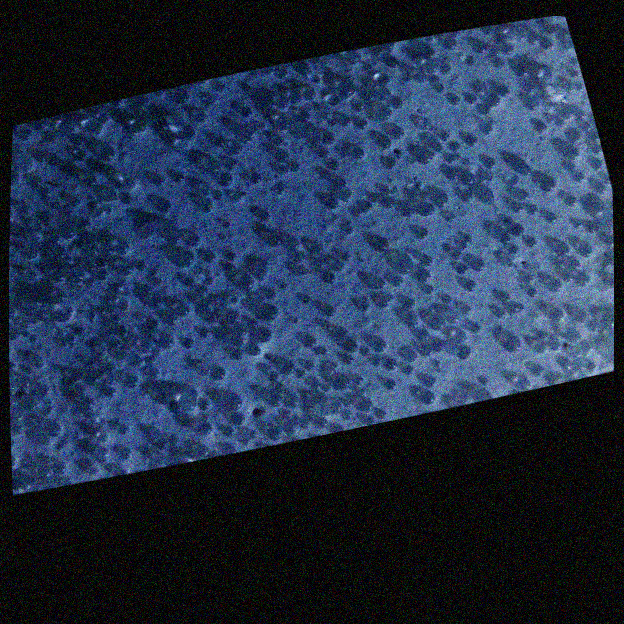GrassBeadSeg: (13, 38, 553, 431), (12, 84, 511, 466), (12, 59, 428, 453), (10, 42, 506, 366), (26, 130, 573, 411), (17, 96, 540, 387), (40, 163, 525, 476), (10, 39, 544, 317), (9, 129, 581, 371), (47, 197, 569, 435), (104, 120, 540, 396), (82, 157, 556, 397), (9, 103, 489, 340), (203, 66, 481, 455), (52, 87, 330, 472), (12, 134, 348, 446), (9, 146, 499, 352), (40, 185, 530, 388), (203, 104, 490, 444), (41, 145, 444, 387), (120, 190, 474, 458), (20, 128, 384, 364), (10, 209, 543, 368), (199, 195, 577, 410), (154, 96, 426, 390), (85, 92, 501, 284), (60, 160, 301, 473), (27, 156, 561, 290), (43, 185, 439, 365), (81, 148, 434, 347), (56, 117, 564, 254), (39, 121, 258, 436), (131, 125, 404, 377), (181, 88, 386, 417), (103, 258, 482, 435), (80, 160, 332, 409), (344, 48, 553, 348), (208, 80, 495, 294), (225, 144, 570, 321), (333, 81, 535, 383), (26, 126, 205, 456), (315, 220, 597, 425), (204, 212, 556, 370), (91, 234, 512, 365), (296, 37, 458, 375), (36, 253, 413, 396), (71, 196, 298, 431), (269, 272, 590, 438), (121, 234, 613, 338), (34, 248, 461, 367), (10, 220, 230, 444), (66, 310, 581, 405), (123, 195, 574, 301), (276, 94, 458, 345), (17, 329, 463, 431), (100, 191, 471, 311), (35, 130, 450, 236), (291, 93, 466, 339), (78, 217, 279, 427), (15, 143, 440, 242), (136, 79, 356, 270), (157, 200, 435, 350), (76, 149, 433, 265), (285, 75, 478, 285), (54, 196, 390, 315), (228, 122, 489, 272), (276, 135, 443, 369), (20, 203, 179, 446), (12, 107, 571, 173), (279, 164, 468, 359), (132, 205, 361, 365), (412, 117, 565, 356), (329, 152, 493, 370), (71, 190, 468, 280), (94, 357, 442, 458), (25, 250, 375, 347), (101, 282, 289, 460), (25, 122, 585, 181), (49, 92, 491, 166), (218, 189, 505, 302), (426, 120, 546, 386), (479, 85, 609, 326), (345, 270, 573, 406), (98, 145, 244, 357), (322, 153, 452, 391), (109, 307, 558, 374), (247, 211, 454, 354), (331, 196, 521, 350), (101, 201, 524, 270), (225, 237, 389, 409), (204, 324, 503, 418), (63, 121, 354, 217), (376, 237, 594, 365), (30, 135, 285, 243), (294, 160, 404, 410), (358, 139, 461, 404), (284, 133, 383, 407), (212, 146, 328, 378), (25, 245, 538, 295), (376, 85, 506, 282), (406, 54, 498, 326), (123, 110, 434, 189), (360, 62, 443, 355), (74, 341, 540, 393), (207, 131, 335, 320), (26, 295, 239, 408), (99, 267, 232, 435), (119, 175, 346, 273), (31, 302, 166, 464), (343, 115, 445, 328), (54, 223, 524, 269), (387, 134, 472, 387), (54, 323, 249, 433), (275, 66, 363, 309), (41, 153, 142, 363), (309, 271, 589, 346), (167, 278, 470, 347), (345, 37, 449, 233), (259, 49, 352, 267), (70, 65, 267, 163), (22, 276, 190, 388), (127, 87, 315, 187), (352, 146, 538, 247), (253, 286, 534, 352), (209, 212, 454, 285), (228, 241, 321, 433), (226, 140, 327, 312), (259, 96, 395, 221), (37, 207, 113, 427), (258, 262, 468, 339), (268, 170, 474, 246), (125, 303, 246, 431), (82, 172, 191, 314), (287, 344, 470, 428), (18, 105, 246, 170), (141, 259, 310, 346), (293, 250, 505, 317), (128, 259, 415, 308), (37, 152, 154, 269), (242, 132, 348, 261), (262, 155, 496, 213), (205, 146, 321, 262), (169, 125, 283, 243), (261, 57, 446, 129), (405, 243, 519, 359), (70, 203, 539, 231), (147, 305, 335, 374), (301, 115, 349, 377), (125, 170, 183, 386), (207, 157, 425, 214), (85, 357, 312, 411), (26, 318, 171, 402), (194, 148, 290, 274), (21, 318, 99, 472), (173, 88, 210, 406), (338, 79, 373, 411), (51, 199, 151, 314), (305, 109, 350, 363), (248, 105, 306, 300), (166, 259, 339, 323), (119, 157, 233, 252), (362, 191, 448, 311), (383, 62, 452, 207), (206, 266, 424, 311), (259, 266, 431, 320), (35, 79, 225, 127), (254, 91, 302, 280), (79, 283, 225, 345), (96, 268, 476, 291), (516, 64, 546, 352), (12, 326, 357, 351), (369, 276, 563, 320), (70, 267, 220, 322), (421, 140, 452, 403), (11, 175, 95, 272), (206, 251, 369, 300), (126, 337, 193, 455), (202, 123, 310, 194), (445, 64, 523, 162), (74, 133, 254, 175), (119, 365, 226, 434), (115, 239, 344, 271), (195, 110, 392, 147), (505, 234, 588, 321), (401, 94, 460, 216), (448, 214, 521, 312), (199, 251, 299, 322), (98, 392, 242, 441), (214, 147, 349, 199), (322, 131, 579, 158), (329, 271, 389, 385), (139, 303, 279, 351), (264, 65, 488, 95), (23, 240, 114, 313), (404, 275, 525, 328), (108, 145, 398, 167), (147, 337, 213, 433), (269, 356, 397, 405), (51, 267, 170, 319), (14, 323, 84, 410), (481, 332, 613, 378), (204, 251, 272, 340), (560, 257, 613, 371), (418, 40, 486, 127), (39, 226, 78, 375), (433, 74, 463, 259), (83, 171, 470, 185), (251, 172, 405, 207), (70, 188, 344, 207), (408, 155, 471, 234), (447, 161, 576, 199), (59, 303, 210, 335), (298, 109, 350, 201), (489, 24, 578, 77), (315, 136, 350, 268), (266, 345, 366, 391), (433, 291, 510, 350), (169, 276, 196, 443), (303, 294, 421, 332), (348, 352, 545, 374), (375, 304, 469, 350), (219, 172, 255, 289), (394, 253, 533, 283), (576, 218, 613, 325), (360, 167, 458, 207), (504, 163, 566, 224), (173, 170, 195, 341), (200, 234, 227, 372), (268, 362, 343, 411), (62, 296, 135, 346), (17, 112, 111, 150), (154, 117, 203, 189), (369, 46, 445, 92), (446, 309, 490, 385), (376, 73, 431, 129), (416, 226, 436, 379), (186, 232, 202, 421), (249, 318, 332, 353), (224, 294, 390, 311), (403, 226, 422, 373), (285, 196, 335, 249), (335, 373, 522, 387), (149, 198, 173, 303), (103, 112, 196, 139), (295, 59, 388, 86), (214, 122, 315, 146), (153, 173, 338, 186), (95, 417, 168, 449), (149, 173, 160, 379), (162, 198, 194, 266), (316, 56, 393, 84), (322, 158, 339, 284), (96, 317, 152, 355), (199, 156, 237, 211), (260, 90, 375, 108), (383, 56, 504, 73), (488, 24, 554, 55), (87, 277, 97, 475), (84, 353, 148, 383), (280, 358, 311, 416), (546, 68, 584, 115), (385, 327, 428, 367), (266, 86, 391, 99), (578, 109, 603, 170), (253, 292, 295, 327), (489, 32, 539, 61), (263, 363, 292, 412), (144, 353, 212, 373), (413, 234, 473, 256), (362, 188, 414, 211), (303, 361, 336, 397), (363, 63, 428, 80), (596, 142, 610, 218), (12, 132, 56, 156), (48, 133, 62, 207), (580, 118, 601, 165), (570, 256, 581, 342), (173, 393, 210, 418), (158, 400, 181, 440), (152, 294, 206, 311), (482, 23, 558, 35), (124, 330, 162, 354), (23, 330, 76, 347), (428, 40, 479, 56), (204, 157, 233, 184), (318, 387, 364, 402), (574, 211, 612, 229), (66, 246, 98, 267), (38, 117, 75, 135), (371, 189, 418, 203), (51, 233, 72, 264), (302, 400, 327, 426), (63, 123, 76, 173), (569, 317, 601, 337), (391, 56, 420, 78), (554, 335, 572, 368), (311, 107, 326, 146), (221, 121, 244, 146), (356, 117, 402, 129), (546, 109, 584, 123), (442, 294, 461, 322), (347, 374, 362, 408), (56, 233, 98, 245), (11, 170, 43, 185), (148, 317, 161, 350), (144, 267, 160, 293), (270, 370, 282, 402), (104, 349, 119, 373), (113, 337, 128, 360), (589, 130, 603, 153), (555, 255, 581, 267), (328, 95, 356, 106), (239, 121, 252, 144), (104, 361, 117, 384), (98, 337, 122, 348), (356, 90, 369, 110), (10, 408, 25, 423), (324, 95, 332, 117), (420, 342, 434, 354), (10, 385, 16, 409), (375, 186, 391, 194), (342, 408, 353, 419), (98, 257, 108, 267), (119, 301, 130, 310)
